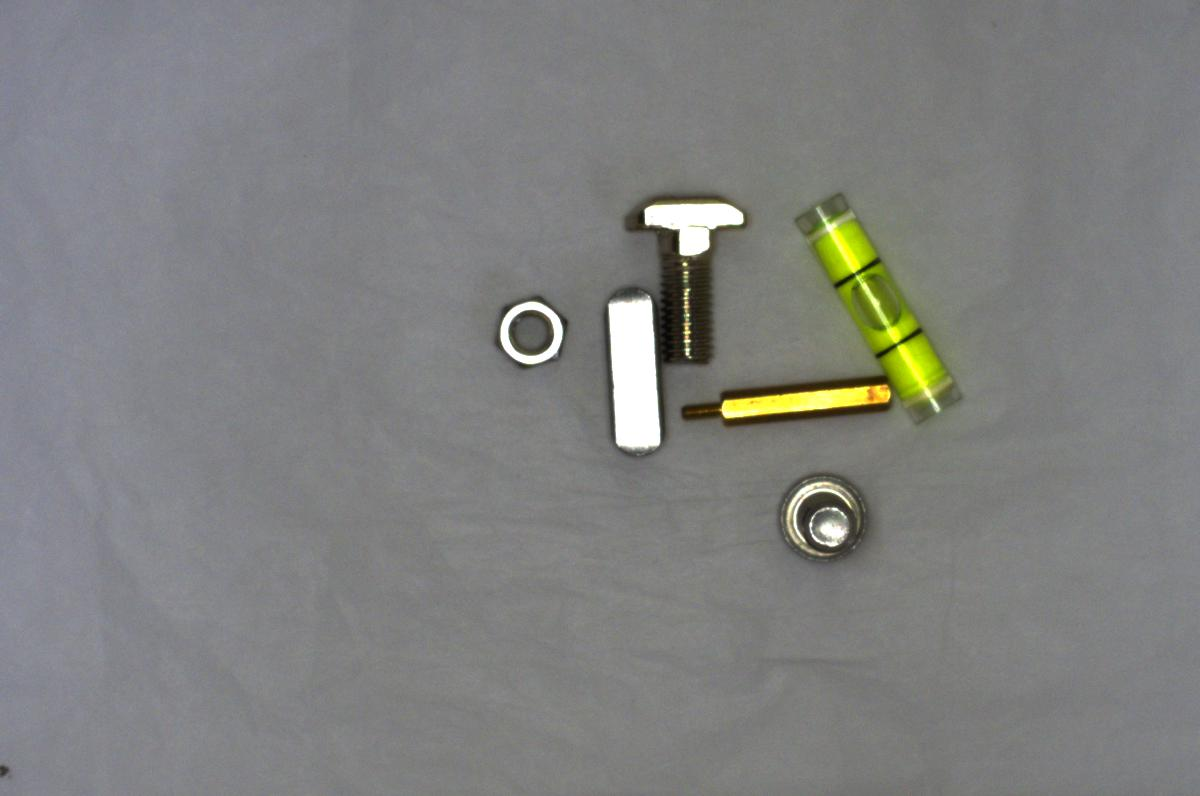Hexagon nut: (483, 276, 575, 383)
Hexagon pillar: (674, 368, 897, 441)
Hexagon screw: (770, 463, 887, 573)
Horizontal bubble: (789, 182, 969, 436)
Keybar: (591, 272, 682, 471)
T-shaped screw: (611, 187, 751, 378)
